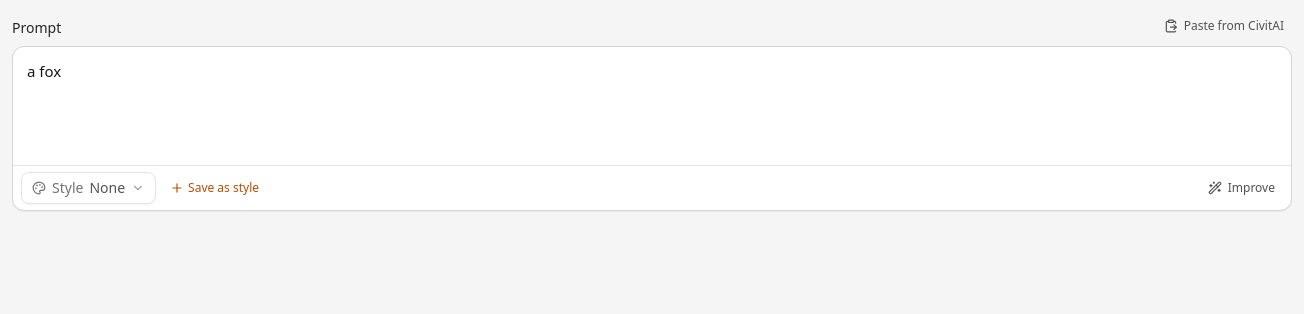
Test: Improve my prompt › offers the helper model when it isn't installed
This screenshot has width=1304, height=314.
Click the button "Improve". click: (1241, 188)
box: [1200,174,1283,202]
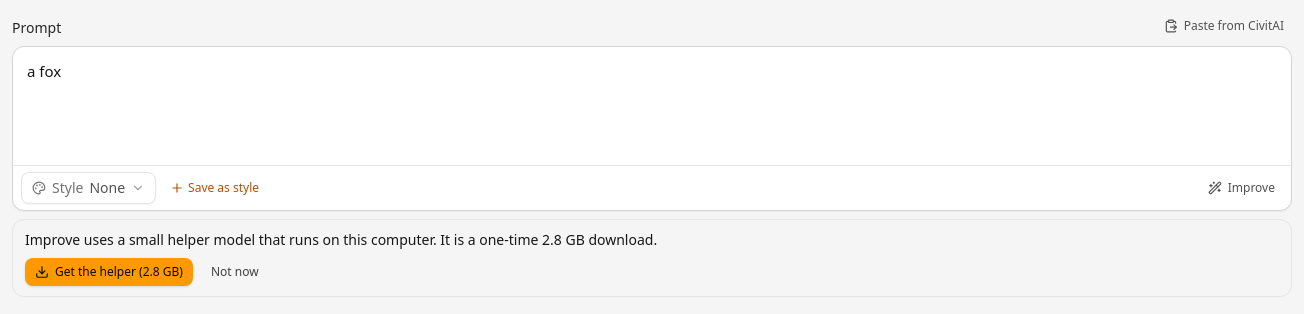
Now the button "Get the helper (2.8 GB)" is shown, box [25,258,193,286]
